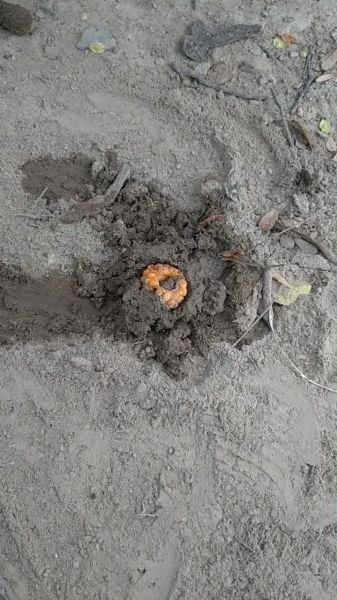eggs: (133, 251, 197, 315)
